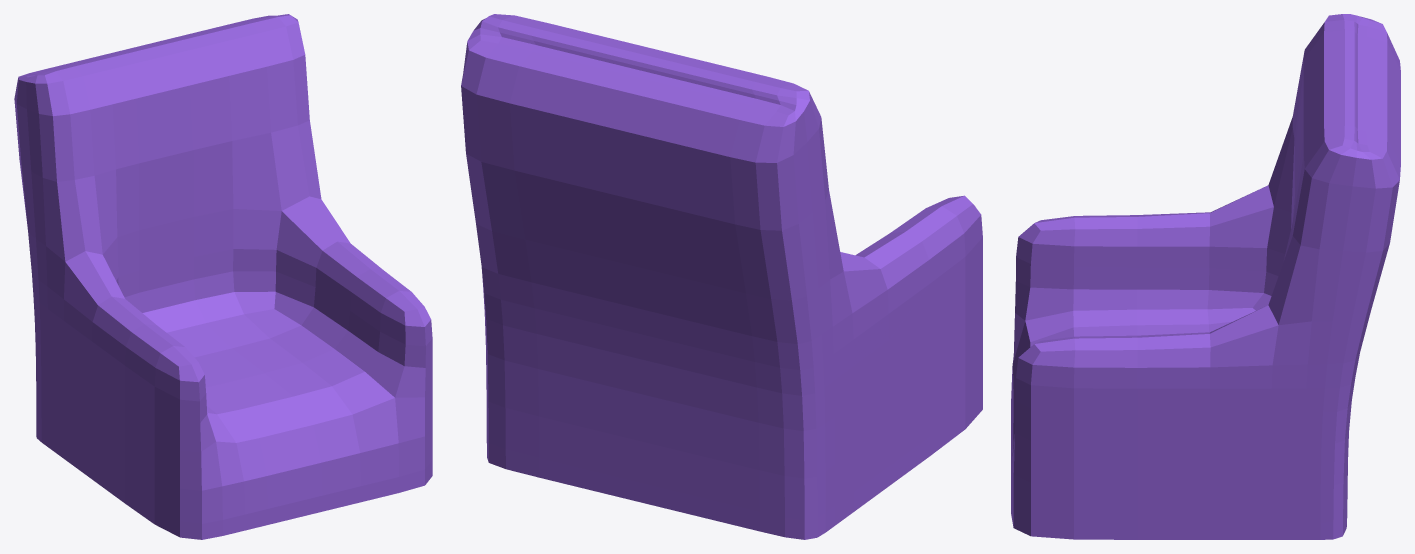
The model's file is CouchGang.fbx.
3 renders of one model, left to right at view 1: azimuth 30°, elevation 25°; view 2: azimuth 150°, elevation 25°; view 3: azimuth 270°, elevation 25°, orthographic. The views are drawn at different scales.
Visible parts, largest first — view 1: CouchModel; view 2: CouchModel; view 3: CouchModel.
Boxes of the visible parts, x1=… form: CouchModel: x1=14, y1=14, x2=432, y2=539; CouchModel: x1=461, y1=14, x2=982, y2=539; CouchModel: x1=1011, y1=14, x2=1400, y2=539.
Size of the model in its own units: 200 by 257 by 232.
